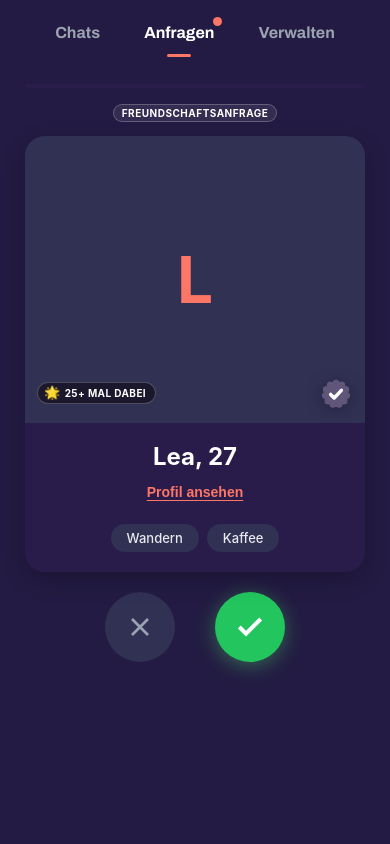
ChatList — friend requests in the Anfragen deck › a request that is no longer open leaves the deck with a clear message — never the English server text
Click the button named "Annehmen" at (250, 627), box 215,592 -> 285,662
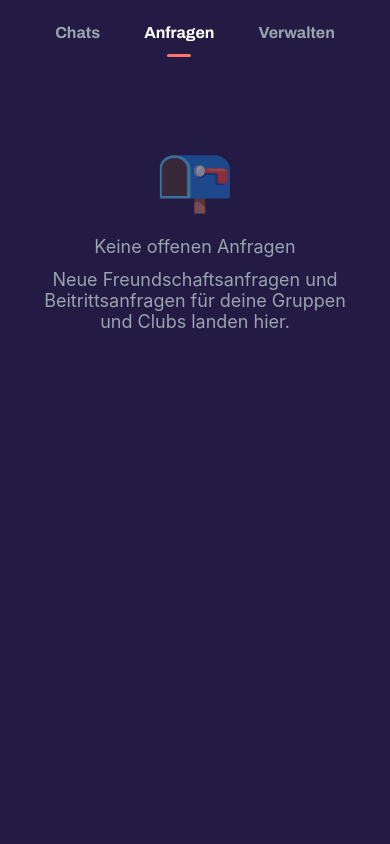
Check: the heading "Lea, 27" is gone
Check: the text "Keine offenen Anfragen" is shown, box 94,236 -> 296,257
